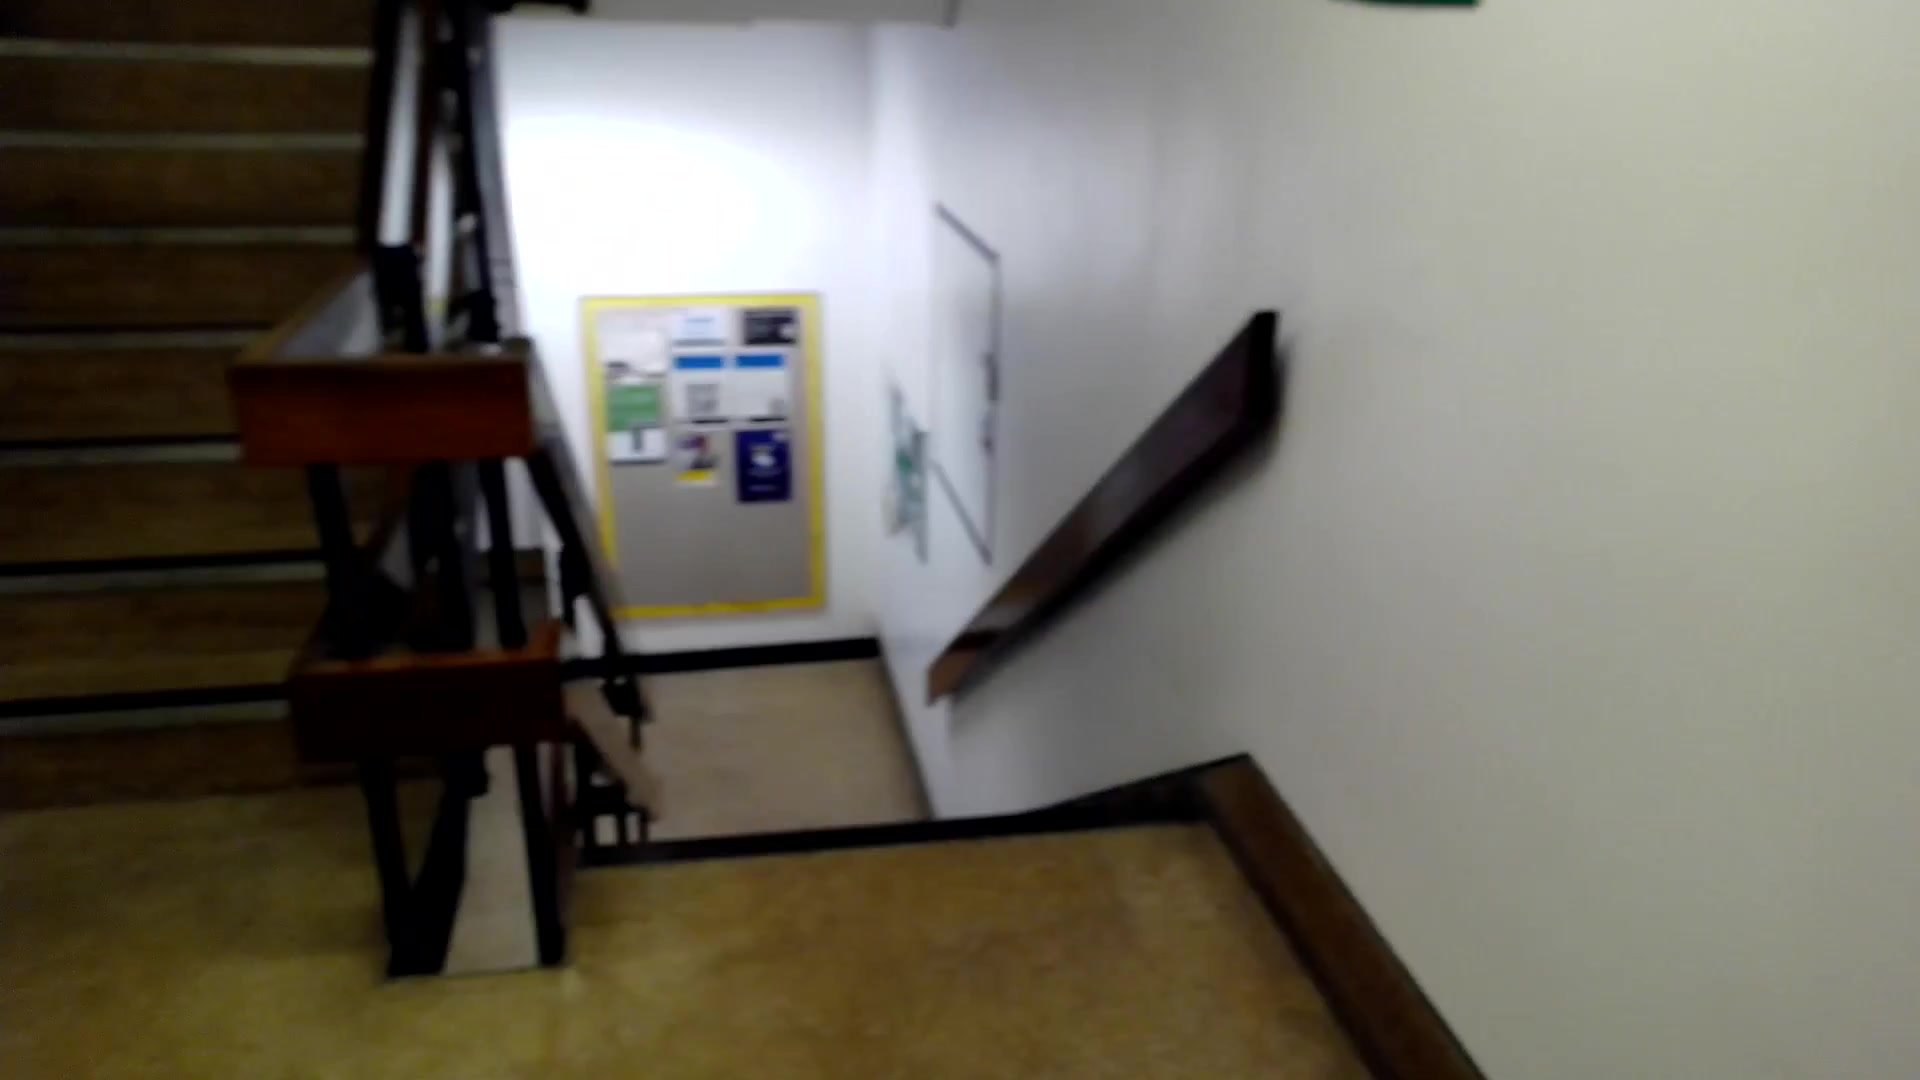Stairs: (1, 1, 410, 786)
